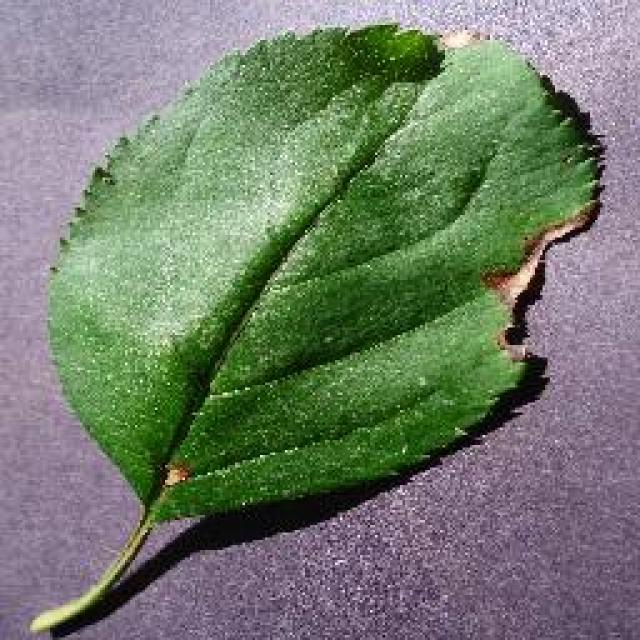apple healthy: (25, 18, 607, 638)
